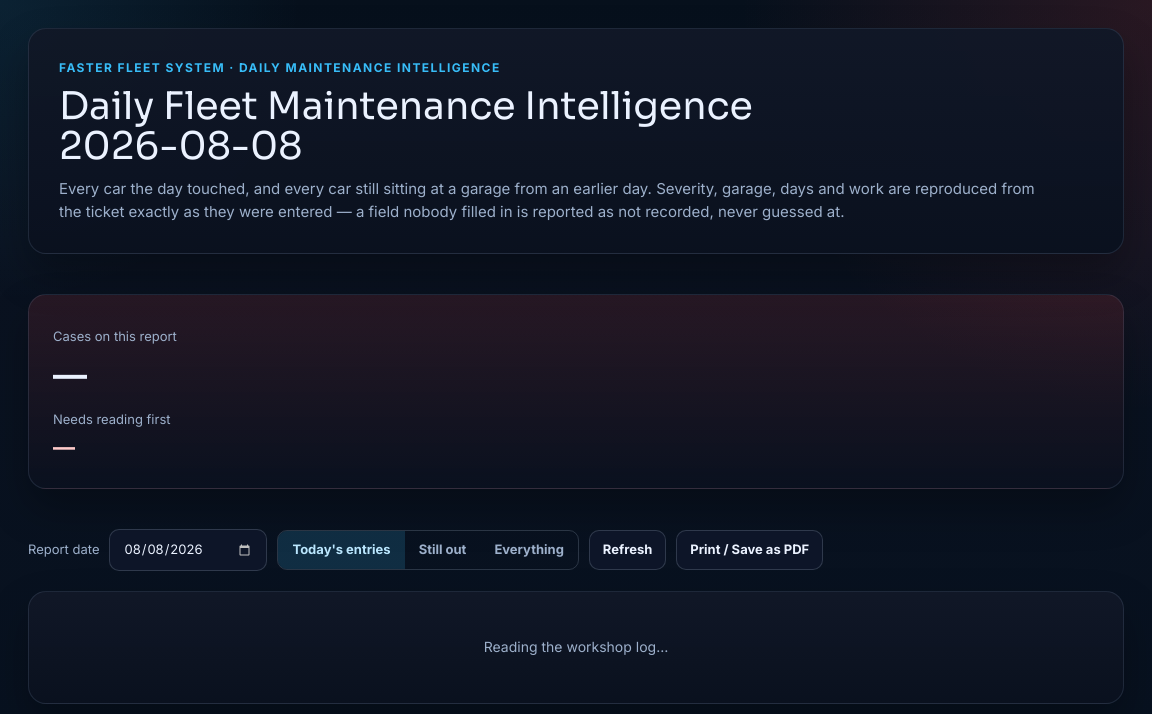
Test: the day at a glance › states how many cases nobody rated, so the mix is not read as complete
// The unrated Patrol sits in "Still out", so switch buckets to bring it into view.
Click the button "Still out": (442, 550) [405, 531, 480, 569]
(page scrolled)
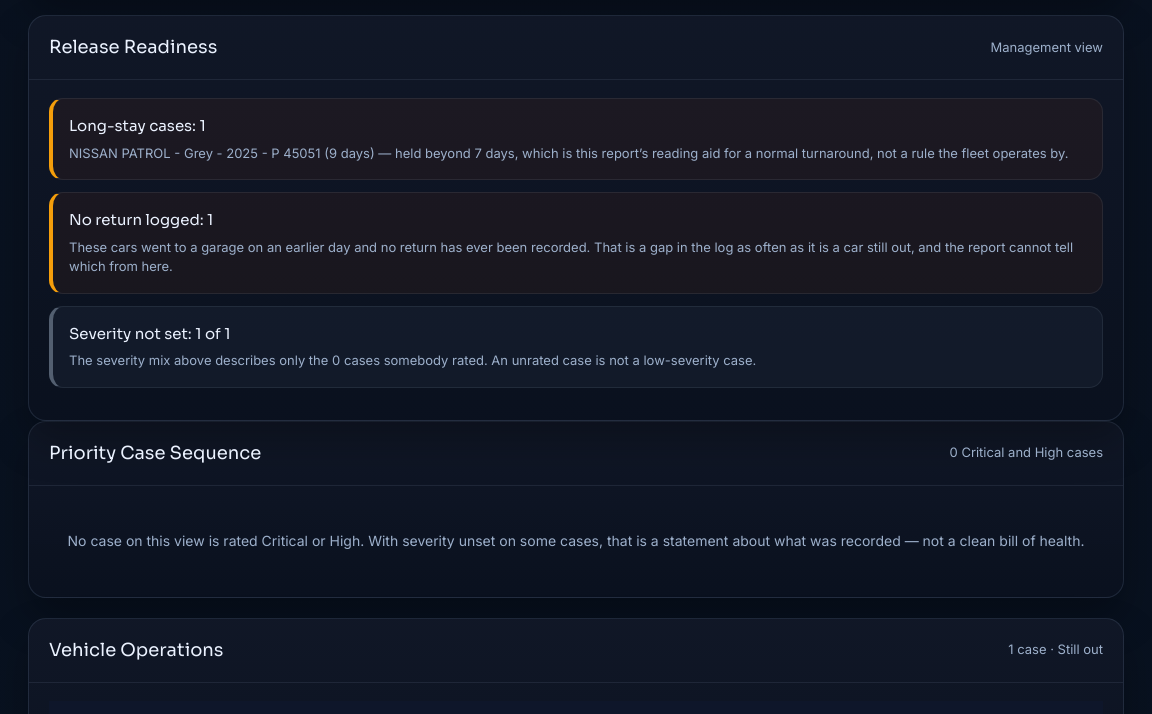
Now the heading "Severity not set: 1 of 1" is shown, box [69, 324, 230, 343]
Now the text "An unrated case is not a low-severity case" is shown, box [340, 352, 756, 368]
